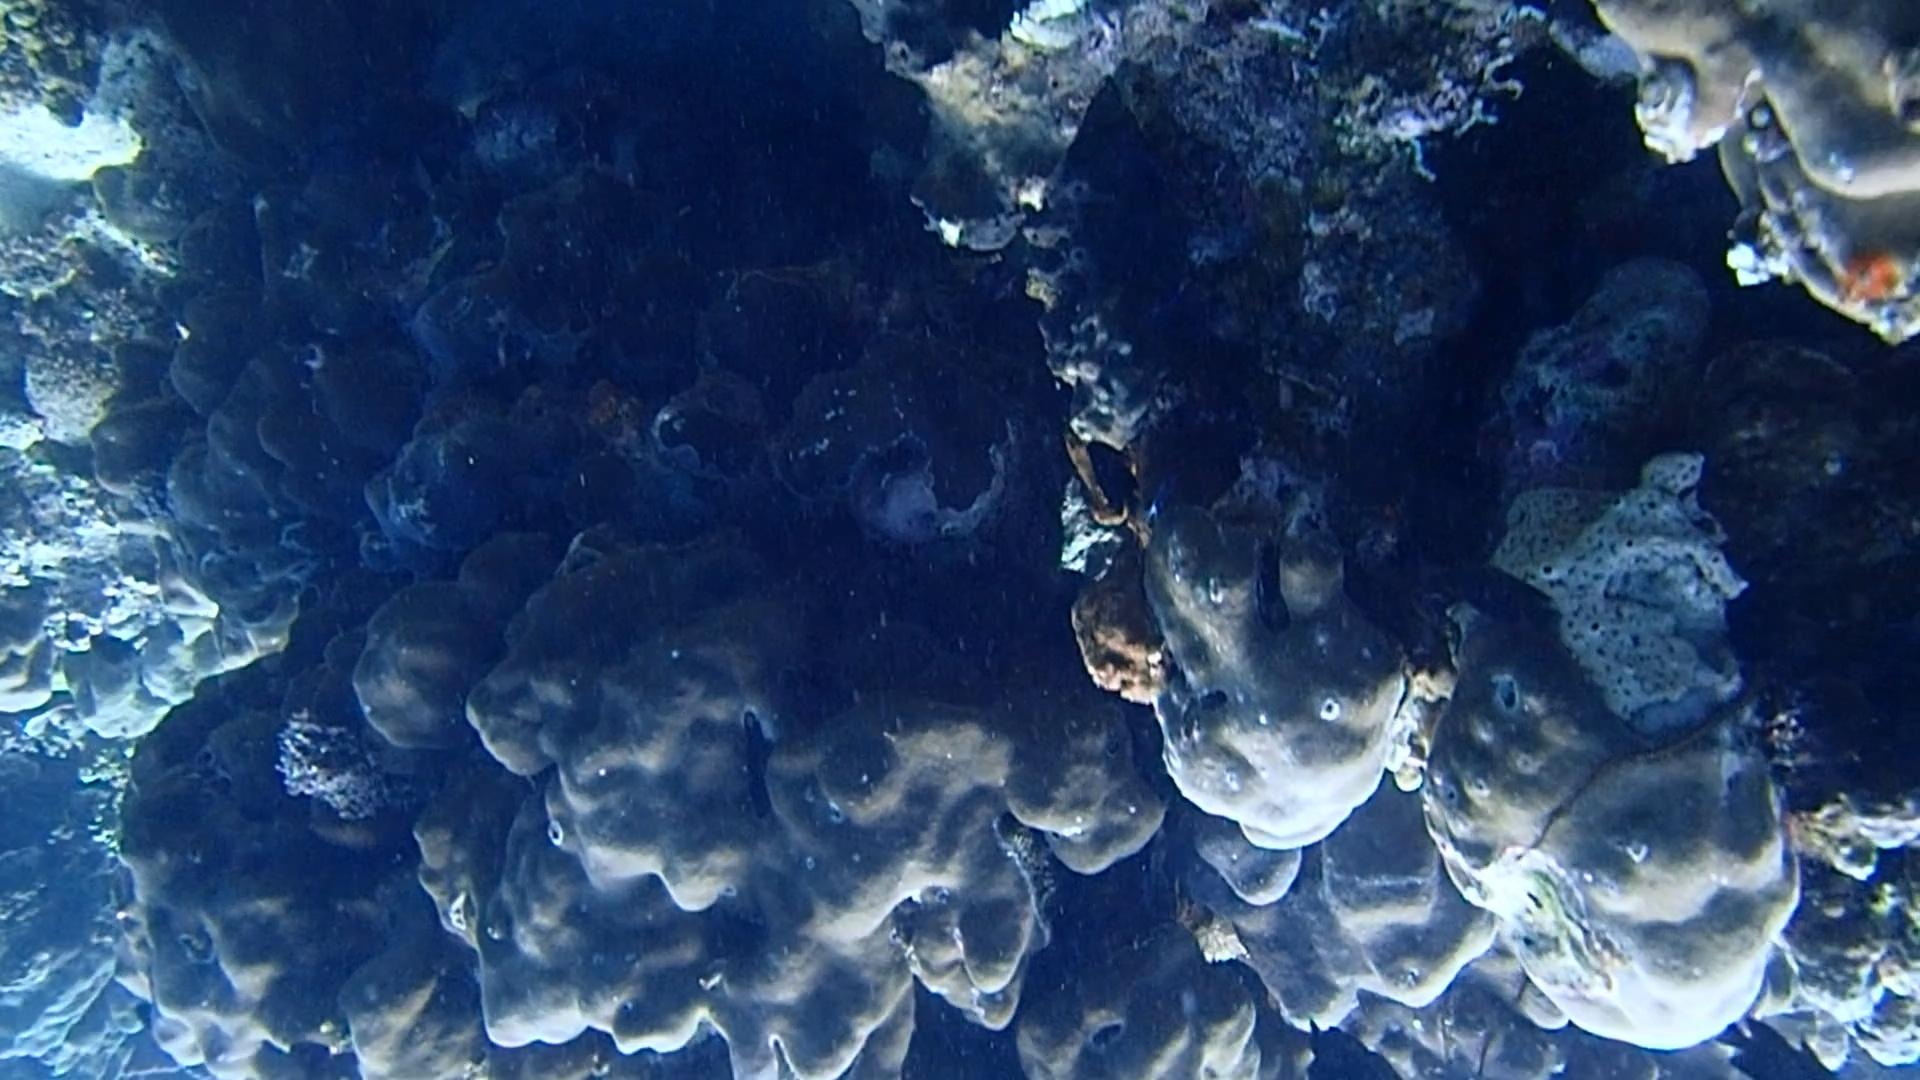Dark Fish: (1077, 430, 1154, 525)
